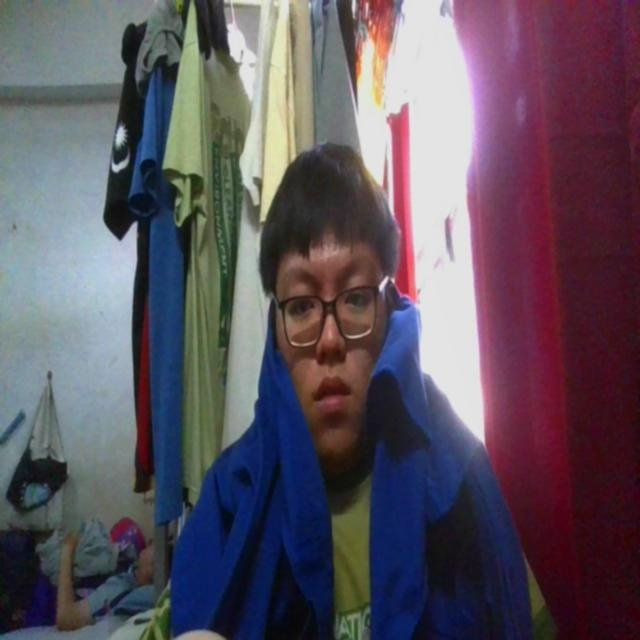person_without_labcoat: (170, 144, 534, 639)
